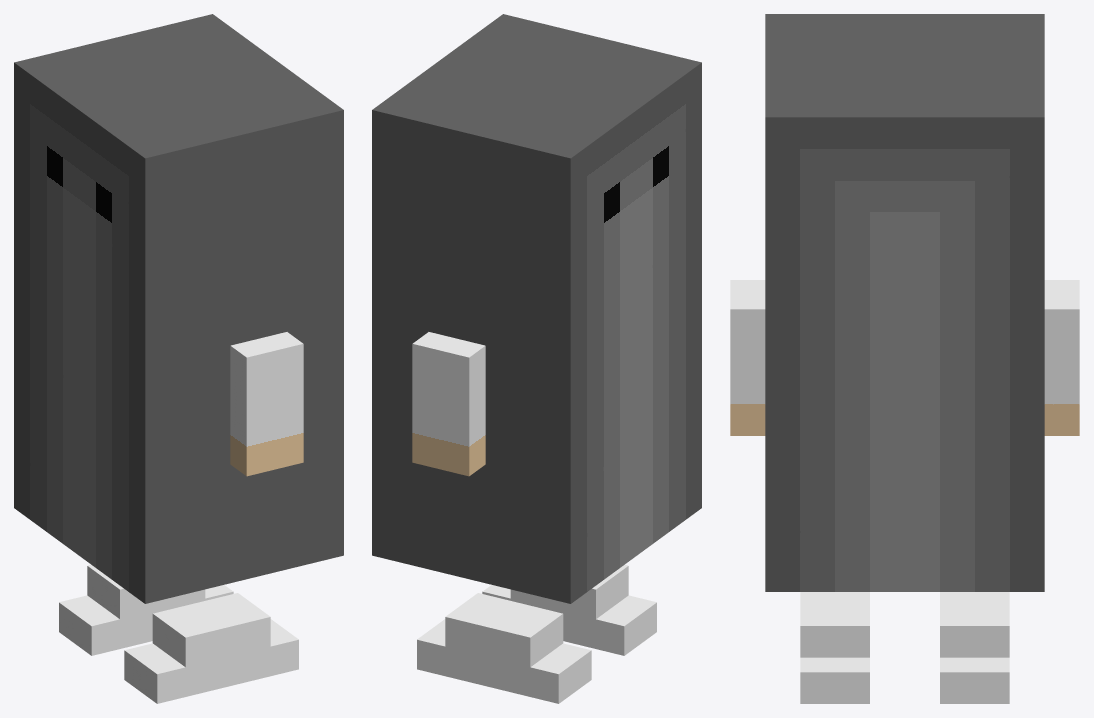
File: Player_19.fbx
3 renders of one model, left to right at view 1: azimuth 30°, elevation 25°; view 2: azimuth 150°, elevation 25°; view 3: azimuth 270°, elevation 25°, orthographic. The views are drawn at different scales.
Visible parts, largest first — view 1: Main, LeftFoot, LeftHand, RightFoot; view 2: Main, RightFoot, RightHand, LeftFoot; view 3: Main, LeftFoot, RightFoot, RightHand, LeftHand.
Boxes of the visible parts, x1,y1,x2,y2 form: Main: (14, 14, 343, 603); LeftFoot: (124, 593, 298, 703); LeftHand: (230, 332, 303, 476); RightFoot: (59, 564, 233, 655); Main: (372, 14, 701, 603); RightFoot: (417, 593, 591, 703); RightHand: (412, 332, 485, 476); LeftFoot: (482, 564, 656, 655); Main: (765, 14, 1044, 591); LeftFoot: (800, 592, 869, 703); RightFoot: (940, 592, 1009, 703); RightHand: (1044, 280, 1079, 435); LeftHand: (730, 280, 765, 435).
Bounding box in the file's own units: 7 × 19 × 10.
Materials: 1 (1 with a texture image).
